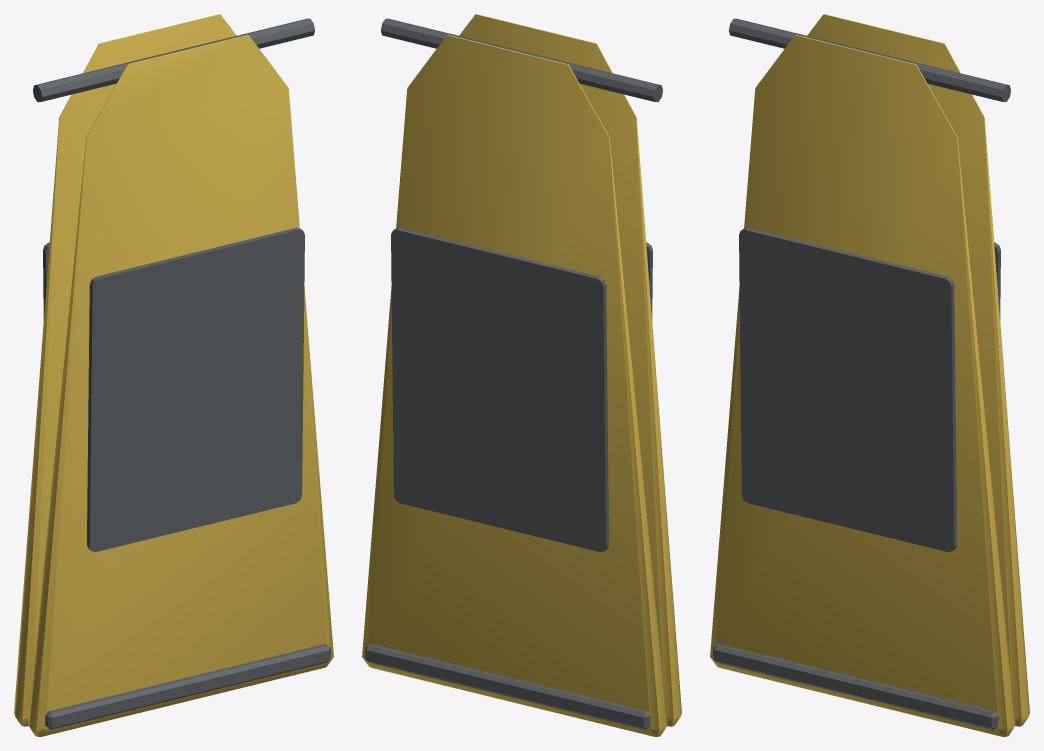
File: laundrette-and-cleaning-wet-floor-sign-folded-8aea5e1b__25582.glb
The picture shows the model from 3 angles, left to right: view 1: azimuth 30°, elevation 25°; view 2: azimuth 150°, elevation 25°; view 3: azimuth 330°, elevation 25°; orthographic projection.
Visible parts, largest first — view 1: wet-floor-sign-folded; view 2: wet-floor-sign-folded; view 3: wet-floor-sign-folded.
Boxes of the visible parts, bbox=[...] form: wet-floor-sign-folded: bbox=[14, 14, 333, 736]; wet-floor-sign-folded: bbox=[362, 14, 681, 736]; wet-floor-sign-folded: bbox=[710, 14, 1029, 736].
Size of the model in its own units: 0.3 by 0.62 by 0.0854.
